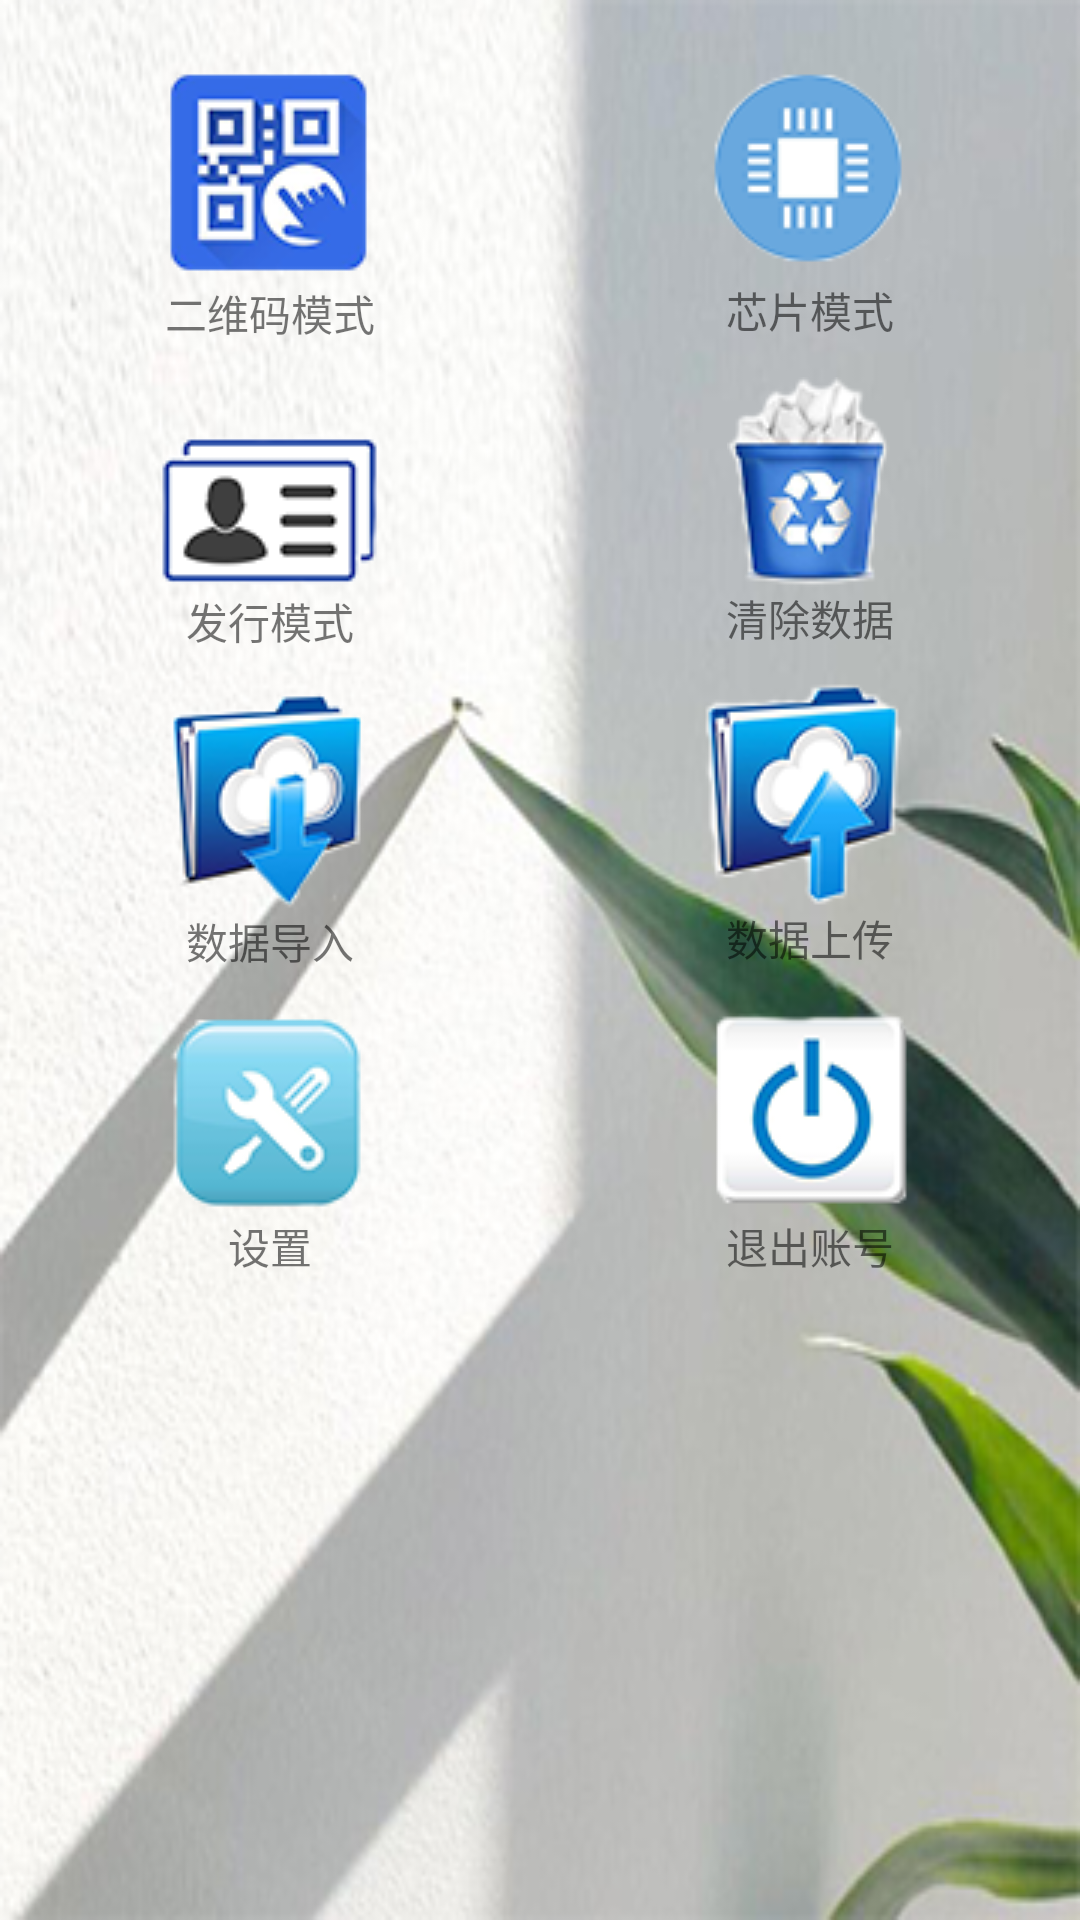

Screen size 1080px×1920px. Icon name, then its center in pixels as [x,y]:
scan: [268,172]
